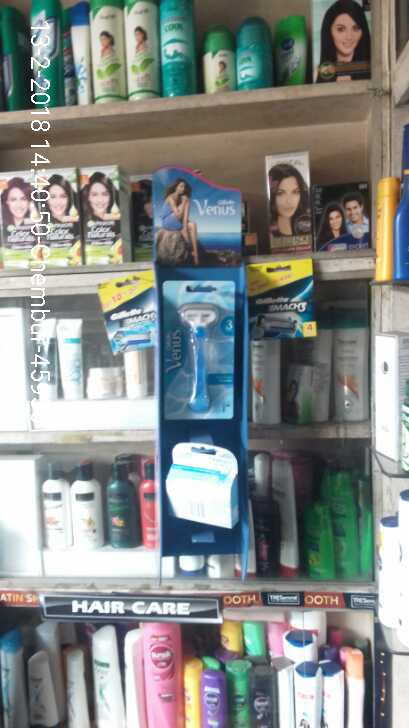beauty: (165, 280, 230, 422), (242, 262, 319, 334), (95, 277, 160, 352)
